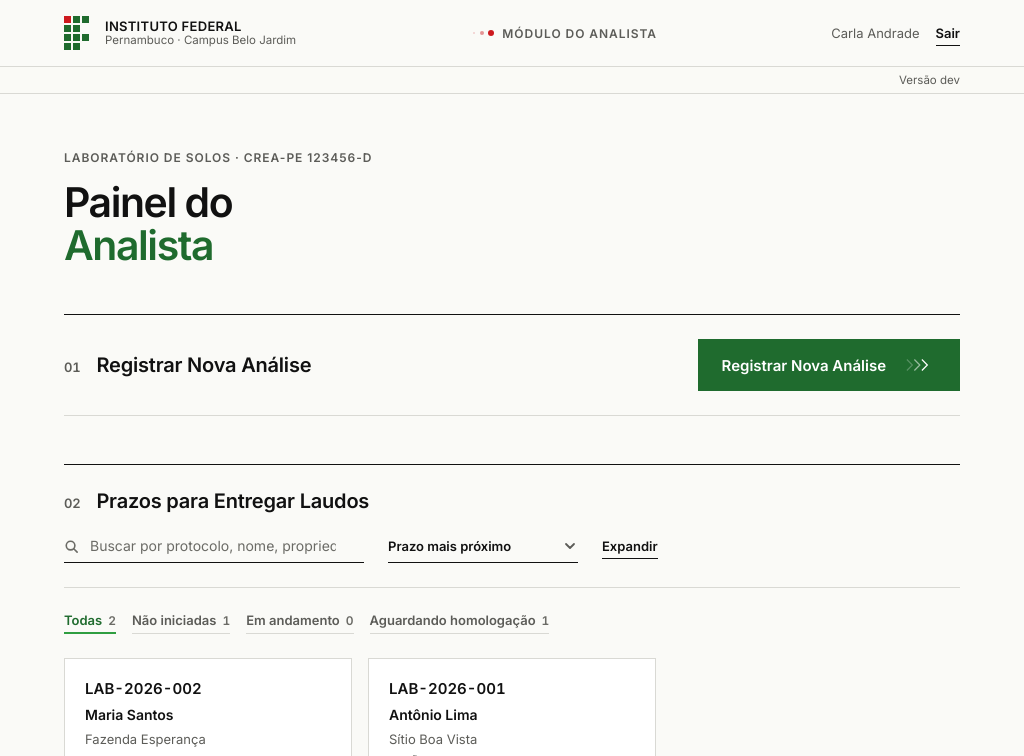
Test: AnalistaDashboardPage › lista amostras pendentes e concluídas, filtra por situação, busca e limpa filtros
The width and height of the screenshot is (1024, 756).
expect the text "LAB-2026-001" is shown: met, box [389,679,506,698]
expect the text "LAB-2026-002" is shown: met, box [85,679,202,698]
# Filtra apenas por Aguardando homologação
Click the button "Aguardando homologação 1".
click(459, 623)  # box [370,612,549,634]
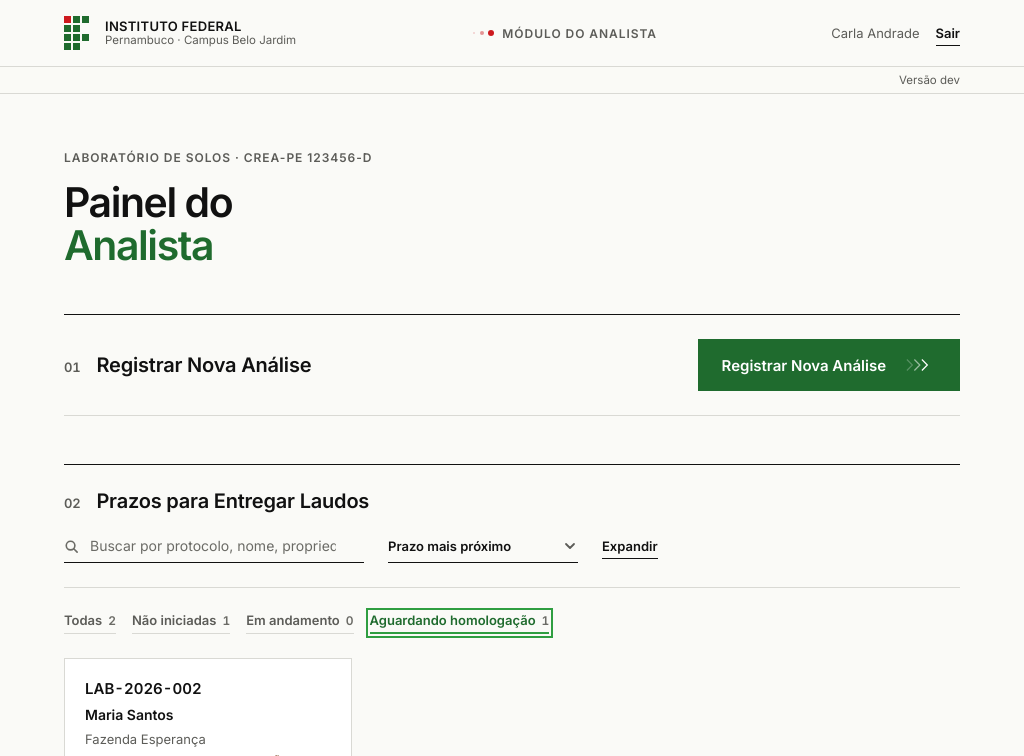
expect the text "LAB-2026-002" is shown: met, box [85,679,202,698]
expect the button "LAB-2026-001" is gone: met
# Busca sem resultado e limpa filtros
Type "Inexistente" into the field named "Buscar amostras".
click(214, 546); type("Inexistente")  # box [64,529,364,563]
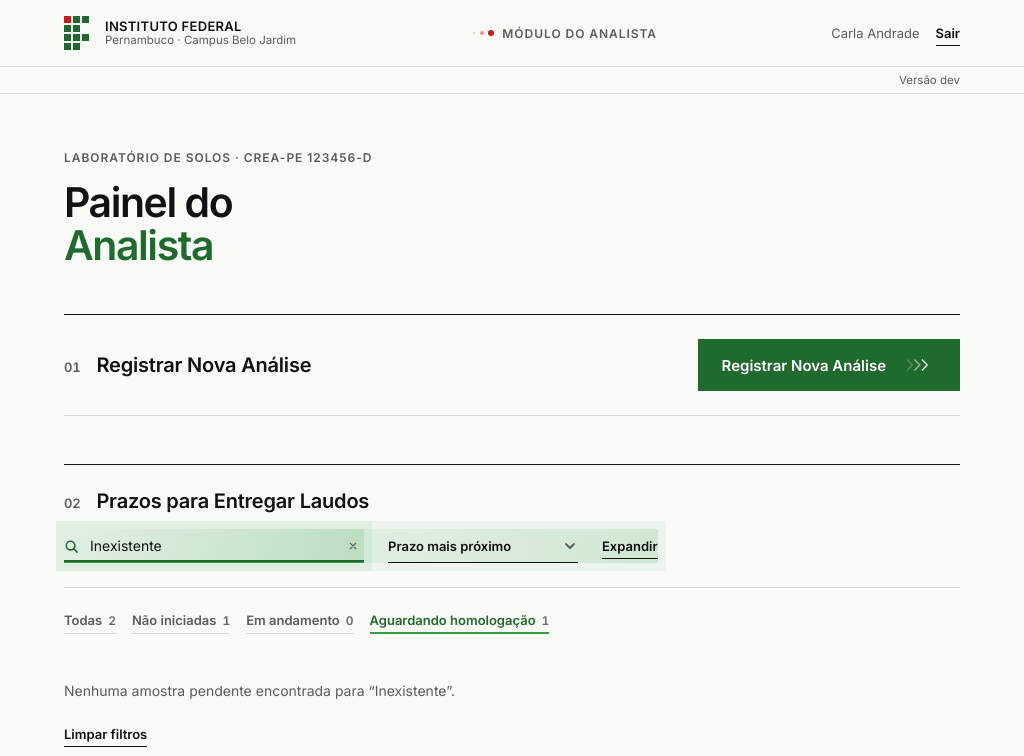
expect the text "Nenhuma amostra pendente encontrada para “Inexistente”." is shown: met, box [64,682,455,699]
Click the button "Limpar filtros".
click(106, 737)  # box [64,726,147,747]
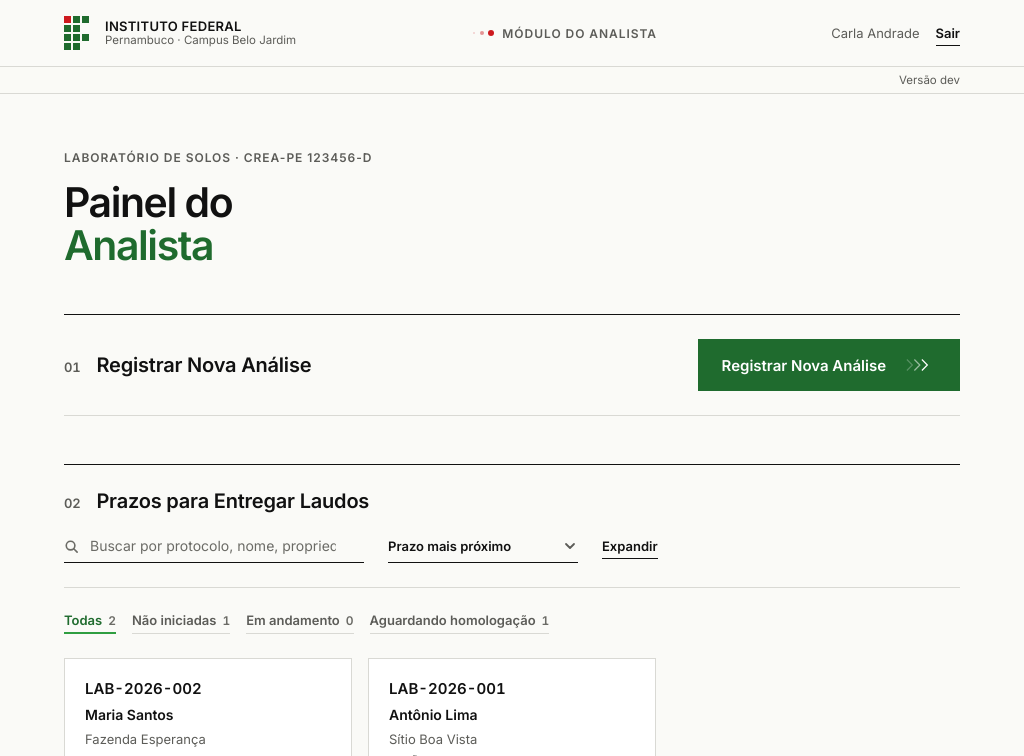
expect the text "LAB-2026-001" is shown: met, box [389,679,506,698]
expect the text "LAB-2026-002" is shown: met, box [85,679,202,698]
